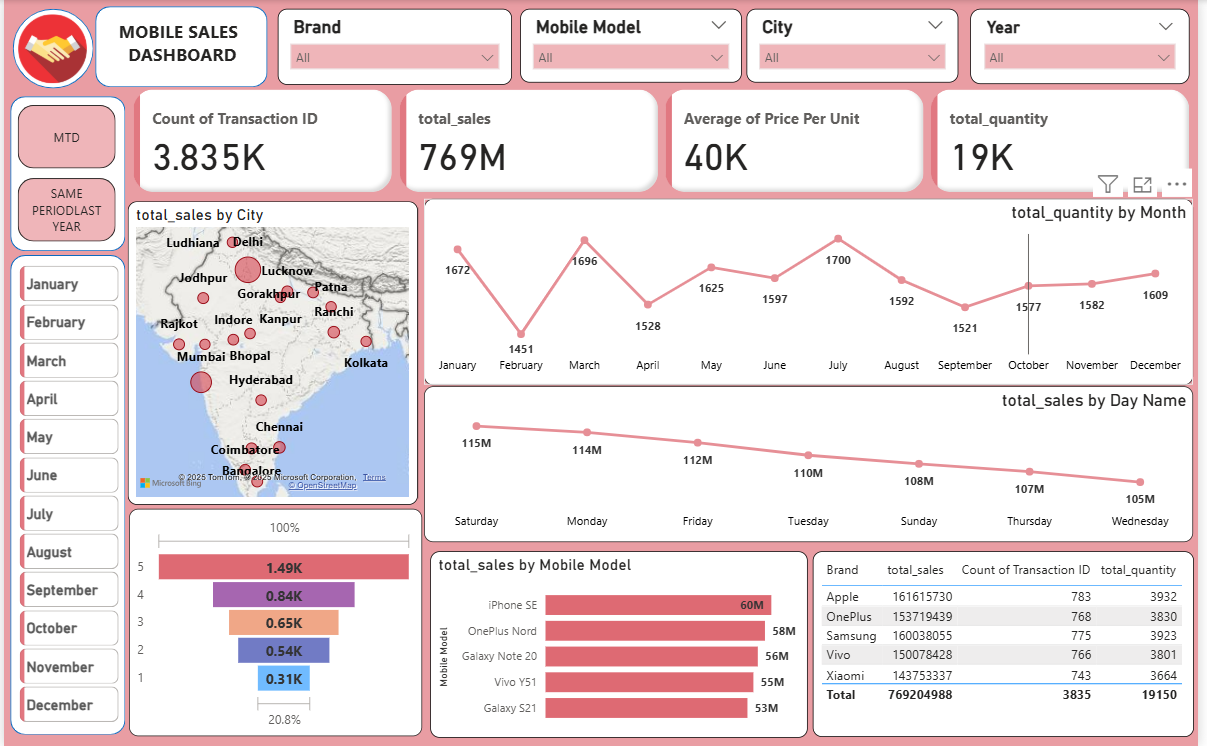

This screenshot's page, from the dashboard's own definition file:
{"tool":"powerbi","page":{"name":"SALES DESHBOARD","canvas":[1280,800],"ordinal":0},"visuals":[{"type":"shape","box":[10.1,8.8,86.7,85.5],"z":0},{"type":"image","box":[10.1,10.1,88,82.9],"z":1000},{"type":"shape","box":[6.9,273.1,123.5,514.6],"z":2000},{"type":"shape","box":[6.9,102.9,123.5,166],"z":3000},{"type":"advancedSlicerVisual","fields":{"Values":["Query1.costom_date.Variation.Date Hierarchy.Month"]},"box":[12.3,279.9,116.6,506.3],"z":4000},{"type":"shape","box":[98,6.3,184.7,86.7],"z":5000},{"type":"cardVisual","fields":{"Data":["CountNonNull(Mobile Sales Data.Transaction ID)","Mobile Sales Data.total_sales","Avg(Mobile Sales Data.Price Per Unit)","Mobile Sales Data.total_quantity"]},"box":[134.5,71.4,1144.4,160.5],"z":6000},{"type":"slicer","fields":{"Values":["Mobile Sales Data.Mobile Model"]},"box":[554.2,8.8,237.5,79.2],"z":7000},{"type":"slicer","fields":{"Values":["Mobile Sales Data.City"]},"box":[796.8,10.1,227.5,79.2],"z":8000},{"type":"slicer","fields":{"Values":["Query1.costom_date.Variation.Date Hierarchy.Year"]},"box":[1036.8,8.8,235,80.4],"z":9000},{"type":"slicer","fields":{"Values":["Mobile Sales Data.Brand"]},"box":[294.1,8.8,251.3,81.7],"z":10000},{"type":"textbox","box":[118.1,16.3,152.1,61.6],"z":11000},{"type":"map","fields":{"Category":["Mobile Sales Data.City"],"Size":["Mobile Sales Data.total_sales"]},"box":[132.7,215.8,311,325.7],"z":12000},{"type":"lineChart","fields":{"Category":["Query1.costom_date.Variation.Date Hierarchy.Month"],"Y":["Mobile Sales Data.total_quantity"]},"box":[450.1,212.7,824.7,200.3],"z":13000},{"type":"funnel","fields":{"Category":["Mobile Sales Data.Customer Ratings"],"Y":["CountNonNull(Mobile Sales Data.Transaction ID)"]},"box":[134.5,546.1,314.2,244.3],"z":14000},{"type":"clusteredBarChart","fields":{"Category":["Mobile Sales Data.Mobile Model"],"Y":["Mobile Sales Data.total_sales"]},"box":[457.1,591.2,404.8,199.7],"z":15000},{"type":"tableEx","fields":{"Values":["Mobile Sales Data.Brand","Mobile Sales Data.total_sales","CountNonNull(Mobile Sales Data.Transaction ID)","Mobile Sales Data.total_quantity"]},"box":[867.2,591.4,408.9,199],"z":16000},{"type":"lineChart","fields":{"Category":["Query1.Day Name"],"Y":["Mobile Sales Data.total_sales"]},"box":[450.1,414.4,824.7,167.4],"z":17000},{"type":"pageNavigator","box":[14.7,112.6,105.9,147.5],"z":18000}]}

Visuals, with their boxes in screenshot pixels (x1, y1, x2, y2), scaled from the page's 1280x800 canvas onto the 1207x746 screenshot:
shape: left=10, top=8, right=91, bottom=88
image: left=10, top=9, right=93, bottom=87
shape: left=7, top=255, right=123, bottom=735
shape: left=7, top=96, right=123, bottom=251
advancedSlicerVisual - Query1.costom_date.Variation.Date Hierarchy.Month: left=12, top=261, right=122, bottom=733
shape: left=92, top=6, right=267, bottom=87
cardVisual - CountNonNull(Mobile Sales Data.Transaction ID) x Mobile Sales Data.total_sales: left=127, top=67, right=1206, bottom=216
slicer - Mobile Sales Data.Mobile Model: left=523, top=8, right=747, bottom=82
slicer - Mobile Sales Data.City: left=751, top=9, right=966, bottom=83
slicer - Query1.costom_date.Variation.Date Hierarchy.Year: left=978, top=8, right=1199, bottom=83
slicer - Mobile Sales Data.Brand: left=277, top=8, right=514, bottom=84
textbox: left=111, top=15, right=255, bottom=73
map - Mobile Sales Data.City x Mobile Sales Data.total_sales: left=125, top=201, right=418, bottom=505
lineChart - Query1.costom_date.Variation.Date Hierarchy.Month x Mobile Sales Data.total_quantity: left=424, top=198, right=1202, bottom=385
funnel - Mobile Sales Data.Customer Ratings x CountNonNull(Mobile Sales Data.Transaction ID): left=127, top=509, right=423, bottom=737
clusteredBarChart - Mobile Sales Data.Mobile Model x Mobile Sales Data.total_sales: left=431, top=551, right=813, bottom=738
tableEx - Mobile Sales Data.Brand x Mobile Sales Data.total_sales: left=818, top=551, right=1203, bottom=737
lineChart - Query1.Day Name x Mobile Sales Data.total_sales: left=424, top=386, right=1202, bottom=543
pageNavigator: left=14, top=105, right=114, bottom=243
